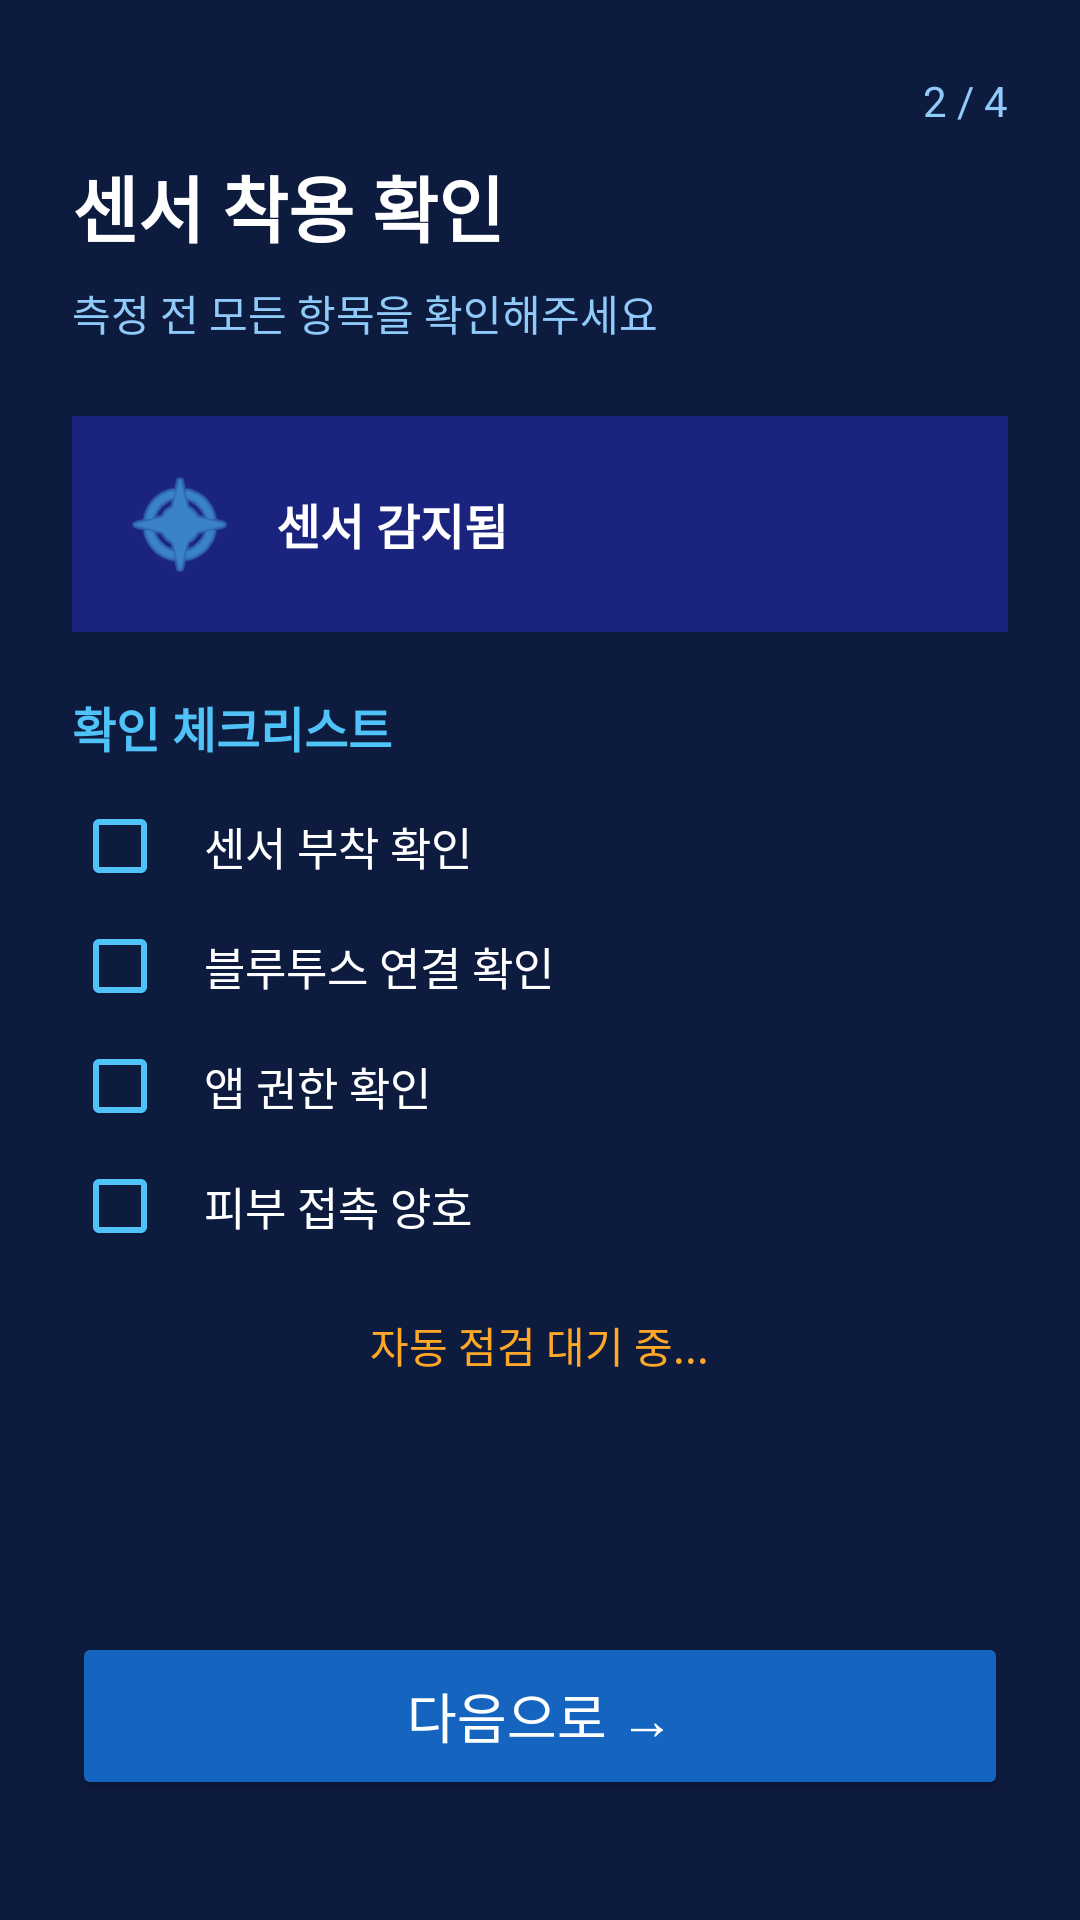

Icons on this 1080*1920 Android screen, each with the point to tap as [x,y]:
센서 아이콘: [179,525]
